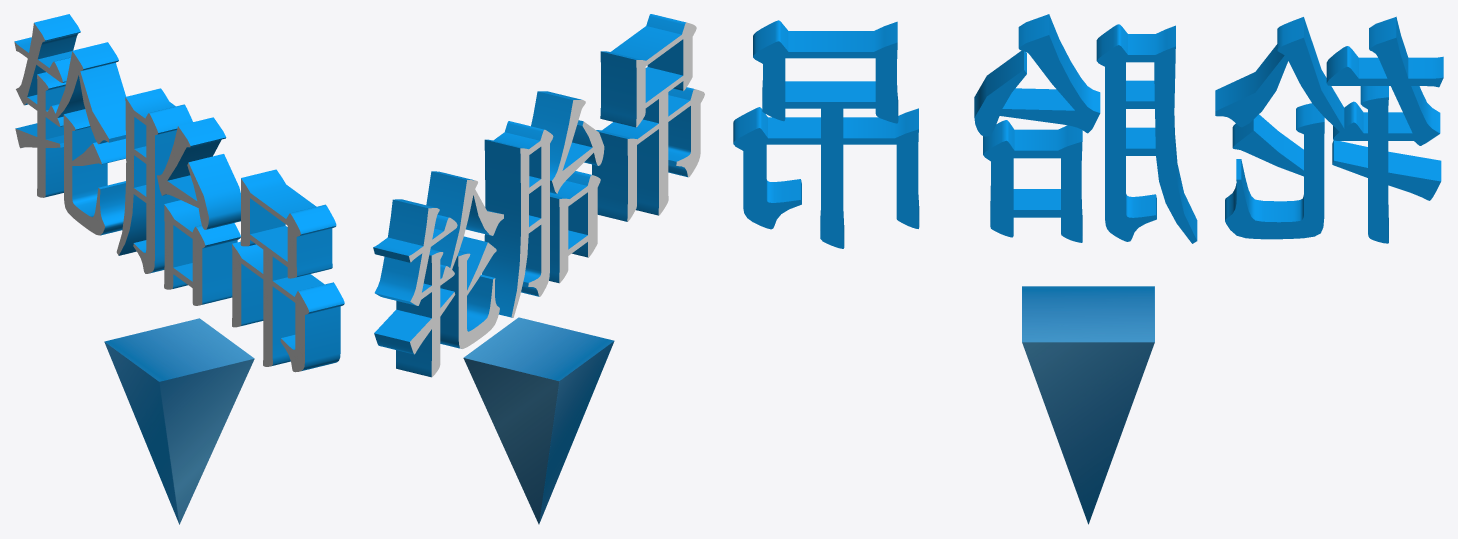
The model's file is Text_LunTaiDiao.FBX.
3 renders of one model, left to right at view 1: azimuth 30°, elevation 25°; view 2: azimuth 150°, elevation 25°; view 3: azimuth 270°, elevation 25°, orthographic. The views are drawn at different scales.
Visible parts, largest first — view 1: Text_LunTaiDiao; view 2: Text_LunTaiDiao; view 3: Text_LunTaiDiao.
Boxes of the visible parts, box(x1,y1,x2,y2) form: Text_LunTaiDiao: box(14, 14, 344, 524); Text_LunTaiDiao: box(373, 14, 704, 524); Text_LunTaiDiao: box(733, 14, 1443, 524).
Bounding box in the file's own units: 4697 × 19521 × 25115.
